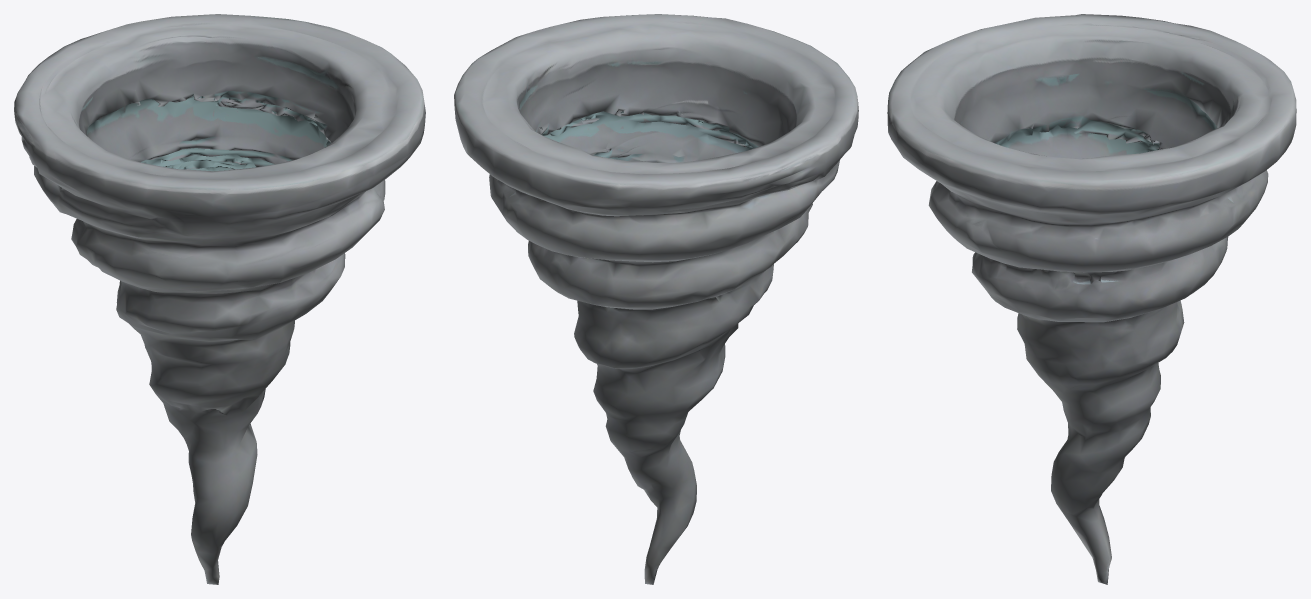
Rendered from TornadoCharacter.glb.
The picture shows the model from 3 angles, left to right: view 1: azimuth 30°, elevation 25°; view 2: azimuth 150°, elevation 25°; view 3: azimuth 270°, elevation 25°; orthographic projection.
Size of the model in its own units: 1.53 by 2 by 1.52.
1 material, 1 textured.
